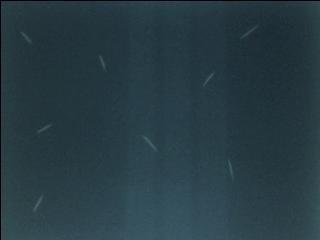scratch: (136, 131, 165, 155), (236, 20, 264, 41), (222, 155, 239, 184), (30, 191, 47, 216), (18, 28, 36, 47), (33, 121, 54, 137), (200, 69, 215, 87), (98, 54, 108, 73)
